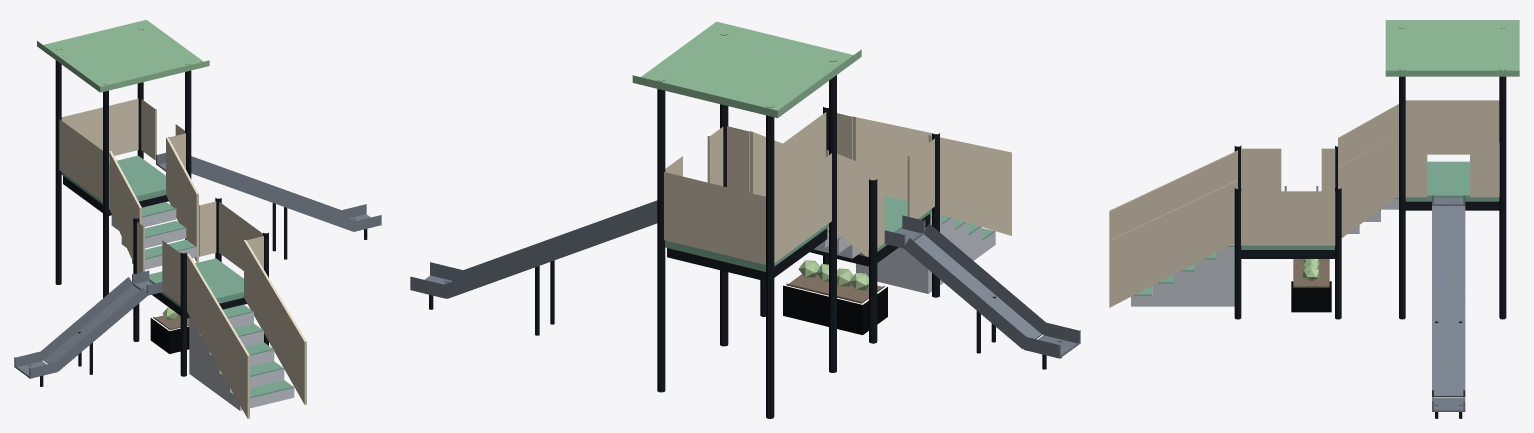
3 renders of one model, left to right at view 1: azimuth 30°, elevation 25°; view 2: azimuth 150°, elevation 25°; view 3: azimuth 270°, elevation 25°, orthographic. The views are drawn at different scales.
Parts seen in each view (by area): view 1: Stair_Cheeks, Guard_Panels, Slide_Chute, Canopy, Posts, Stair_Cast, Decks, Treads_Rubber, Deck_Frame, Planter, Slide_Legs; view 2: Guard_Panels, Stair_Cheeks, Slide_Chute, Canopy, Posts, Stair_Cast, Planter, Deck_Frame, Decks, Slide_Legs, Planter_Soil, Foliage; view 3: Stair_Cheeks, Guard_Panels, Canopy, Slide_Chute, Posts, Stair_Cast, Decks, Deck_Frame, Planter, Planter_Soil.
Part boxes in pixels (box(x1,y1,x2,y2)): Stair_Cheeks: box(109, 137, 306, 418); Guard_Panels: box(59, 98, 263, 304); Slide_Chute: box(14, 153, 381, 378); Canopy: box(37, 19, 209, 92); Posts: box(55, 29, 268, 376); Stair_Cast: box(111, 209, 294, 410); Decks: box(61, 155, 243, 307); Treads_Rubber: box(142, 202, 294, 398); Deck_Frame: box(63, 176, 247, 318); Planter: box(150, 318, 189, 353); Slide_Legs: box(29, 203, 367, 386); Guard_Panels: box(664, 112, 934, 264); Stair_Cheeks: box(750, 116, 1011, 256); Slide_Chute: box(410, 200, 1080, 358); Canopy: box(632, 21, 861, 118); Posts: box(657, 34, 939, 418); Stair_Cast: box(814, 214, 995, 293); Planter: box(783, 285, 887, 335); Deck_Frame: box(667, 213, 930, 281); Decks: box(665, 200, 931, 271); Slide_Legs: box(429, 260, 1061, 369); Planter_Soil: box(786, 274, 884, 303); Foliage: box(798, 260, 868, 290); Stair_Cheeks: box(1109, 104, 1398, 307); Guard_Panels: box(1241, 100, 1499, 245); Canopy: box(1385, 20, 1519, 76); Slide_Chute: box(1284, 186, 1465, 411); Posts: box(1234, 27, 1506, 319); Stair_Cast: box(1131, 198, 1398, 306); Decks: box(1241, 161, 1499, 249); Deck_Frame: box(1241, 201, 1499, 258); Planter: box(1291, 281, 1331, 312); Planter_Soil: box(1293, 259, 1329, 287).
Size of what is drawn, in the model's own units: 7.69 by 4.2 by 6.13.
Materials: 9 (4 with a texture image).
